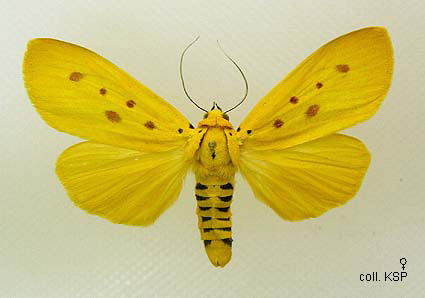Agape chloropyga: (18, 27, 398, 268)
moth: (16, 25, 396, 266)
